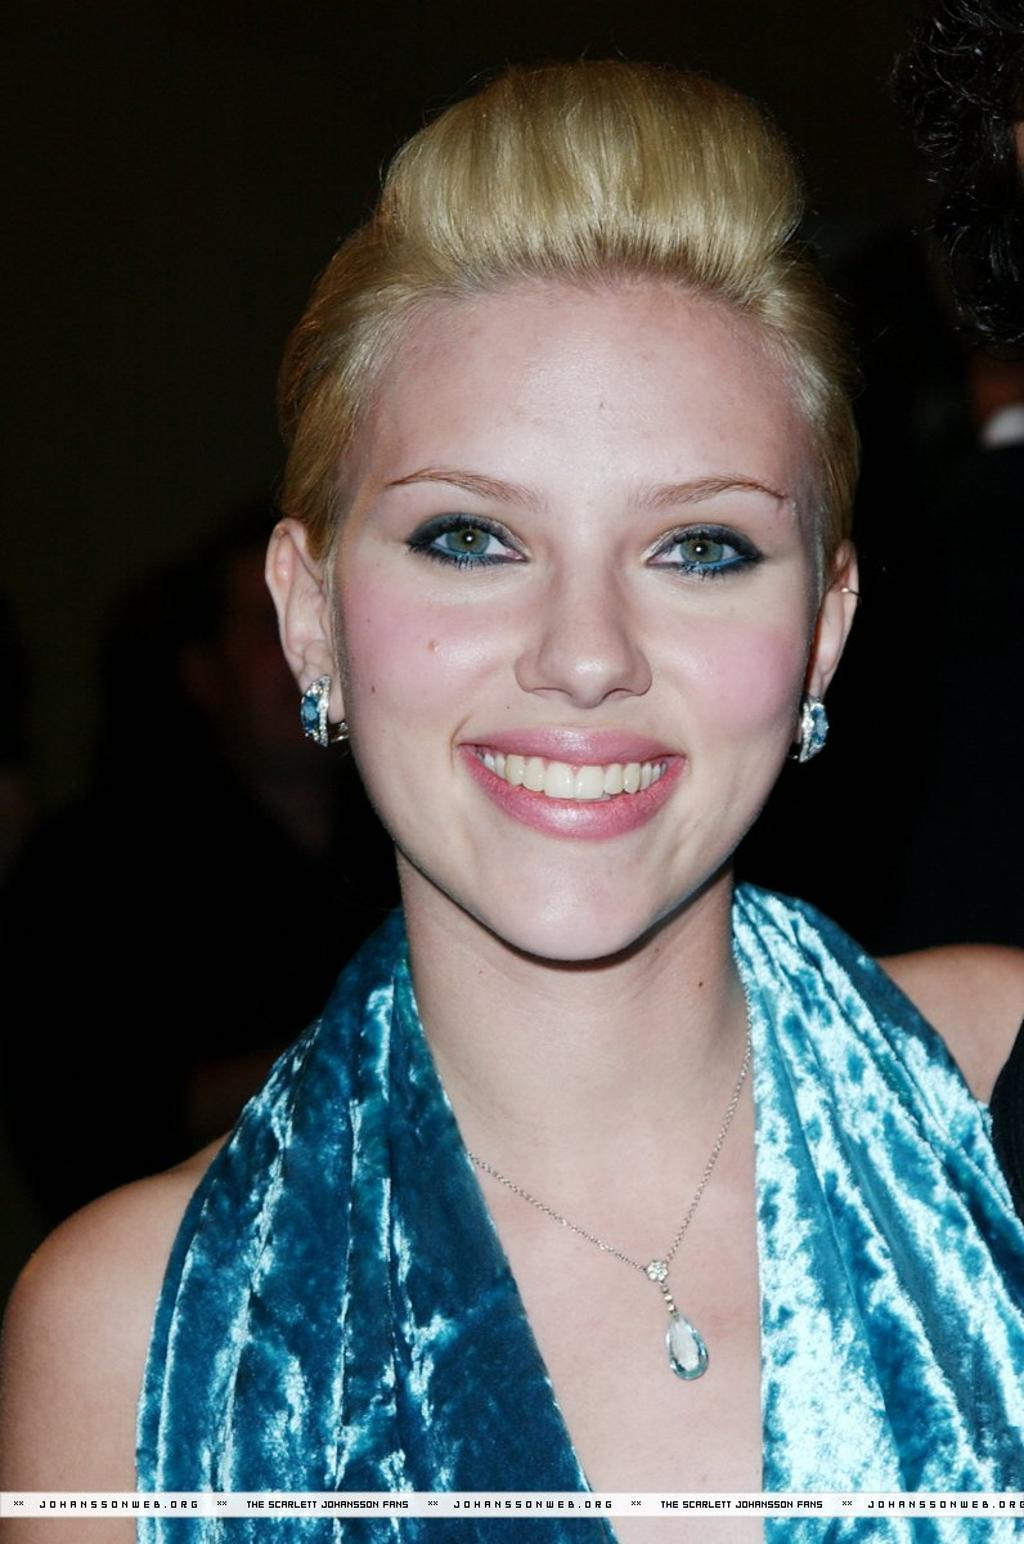face: (343, 268, 825, 955)
